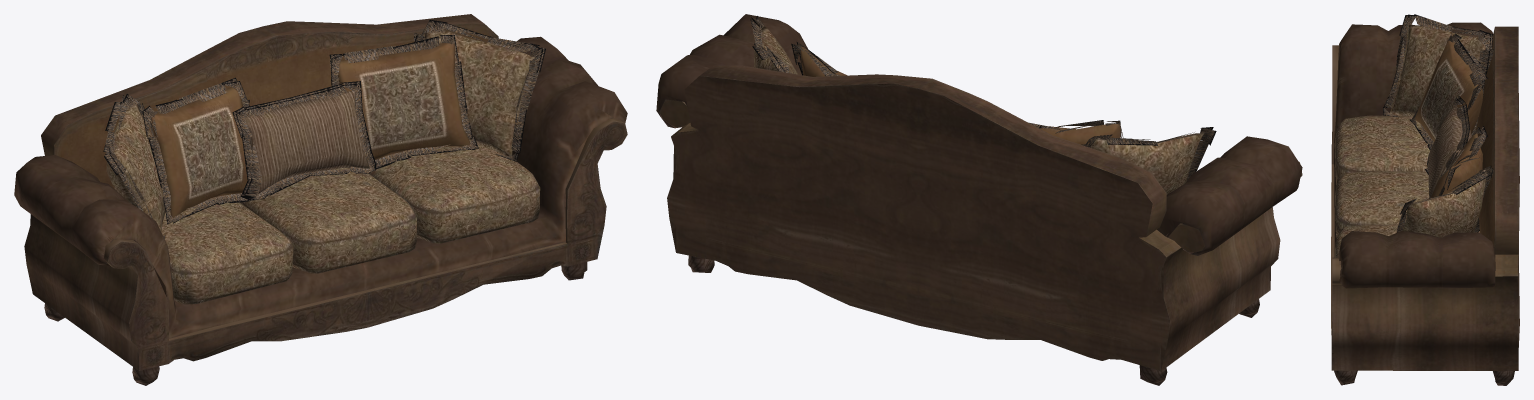
File: sofa_03_lod2.glb
3 renders of one model, left to right at view 1: azimuth 30°, elevation 25°; view 2: azimuth 150°, elevation 25°; view 3: azimuth 270°, elevation 25°, orthographic. The views are drawn at different scales.
Parts seen in each view (by area): view 1: sofa_03; view 2: sofa_03; view 3: sofa_03.
Boxes of the visible parts, box(x1,y1,x2,y2) form: sofa_03: box(14, 14, 627, 385); sofa_03: box(656, 14, 1302, 385); sofa_03: box(1331, 14, 1519, 385).
Bounding box in the file's own units: 2.72 × 1.12 × 0.9237.
Materials: 2 (2 with a texture image).
